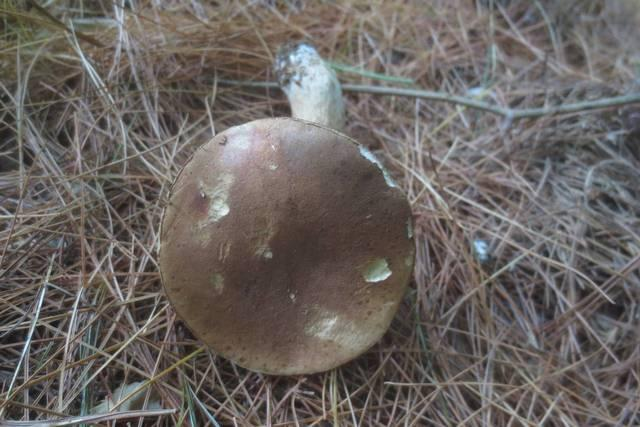poisonous_mushroom: (153, 30, 425, 385)
